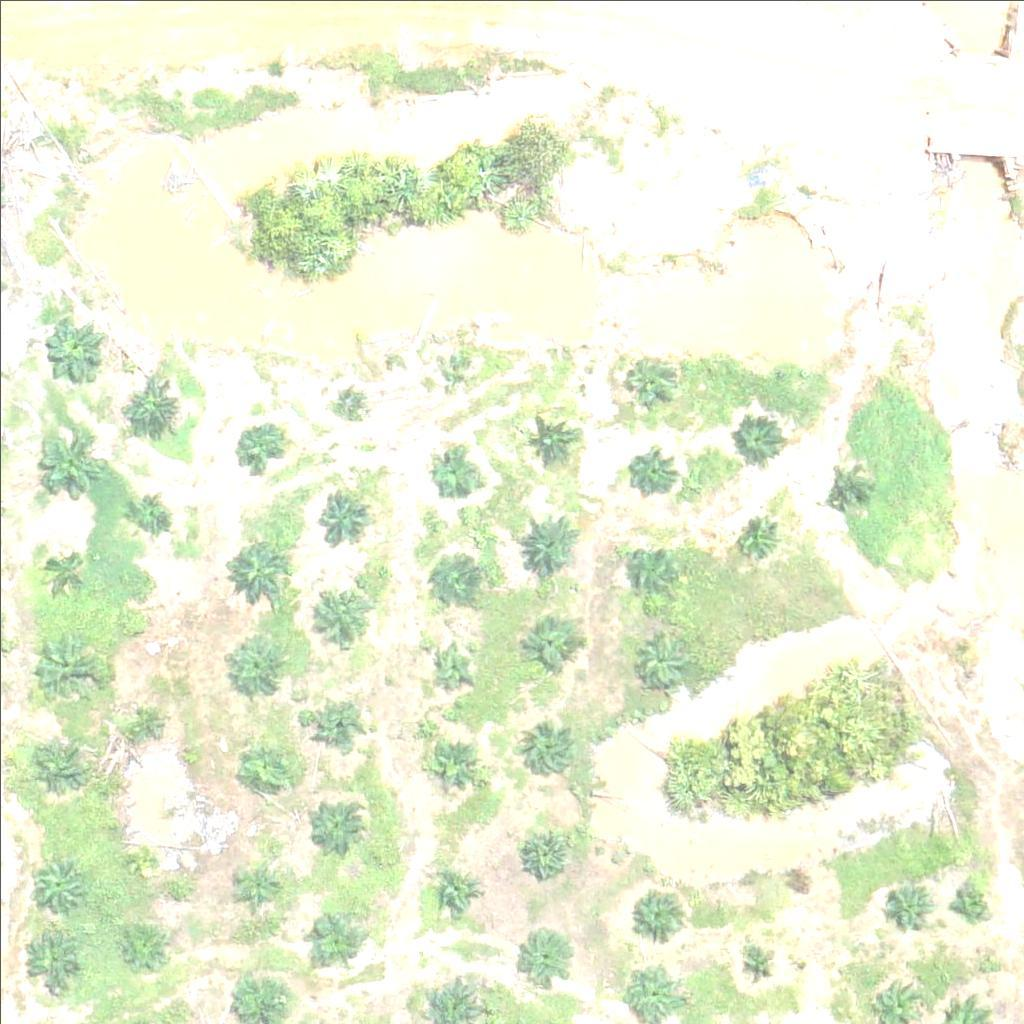Kelapa_Sawit: (27, 638, 102, 714), (42, 431, 105, 494), (20, 926, 83, 989), (517, 508, 580, 571), (46, 322, 109, 385), (227, 542, 289, 605), (309, 579, 371, 642), (29, 734, 91, 797), (230, 632, 292, 695), (627, 879, 689, 942), (423, 737, 485, 800), (124, 377, 186, 440), (24, 848, 86, 910), (432, 453, 482, 504), (428, 552, 478, 603), (530, 615, 580, 666), (519, 929, 569, 980), (636, 630, 686, 681), (625, 547, 675, 598), (625, 449, 675, 500), (525, 410, 575, 461), (522, 828, 572, 879), (431, 864, 481, 915), (317, 488, 367, 538), (236, 421, 286, 471), (310, 704, 360, 754), (307, 910, 357, 960), (311, 800, 361, 850), (121, 927, 171, 977), (244, 744, 294, 794), (525, 726, 575, 776), (734, 410, 784, 460), (40, 541, 90, 591), (125, 484, 175, 534), (117, 701, 167, 751), (623, 349, 673, 399), (731, 514, 781, 564), (822, 458, 872, 508), (881, 880, 931, 930), (241, 866, 279, 904), (955, 882, 993, 920), (435, 649, 472, 687), (737, 945, 774, 983), (336, 393, 361, 418), (133, 851, 158, 876), (126, 616, 151, 641), (431, 359, 456, 384)
